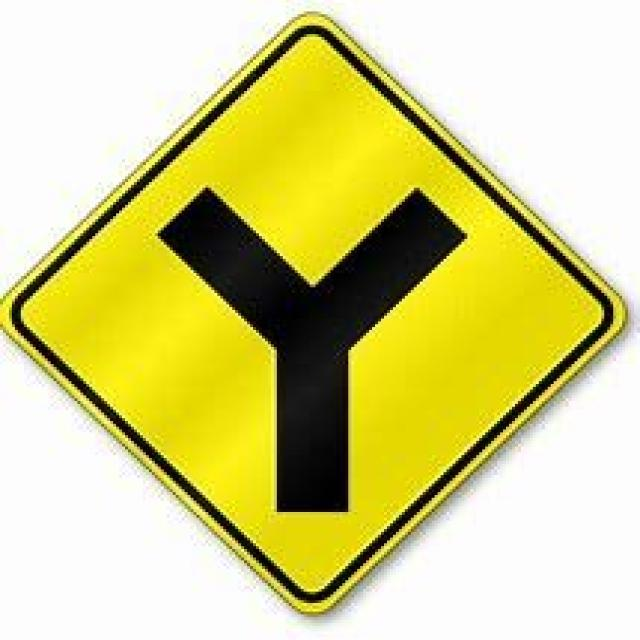y intersection: (18, 29, 612, 594)
